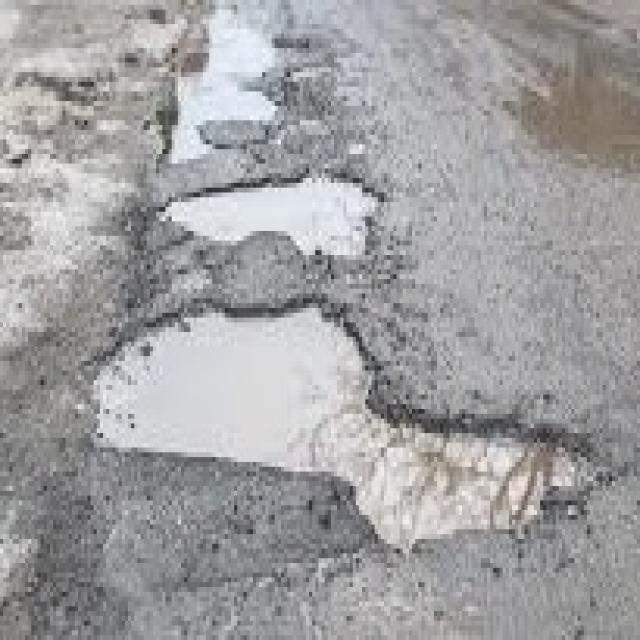road-pothole: (82, 289, 606, 559), (154, 0, 291, 168), (147, 171, 391, 261)
